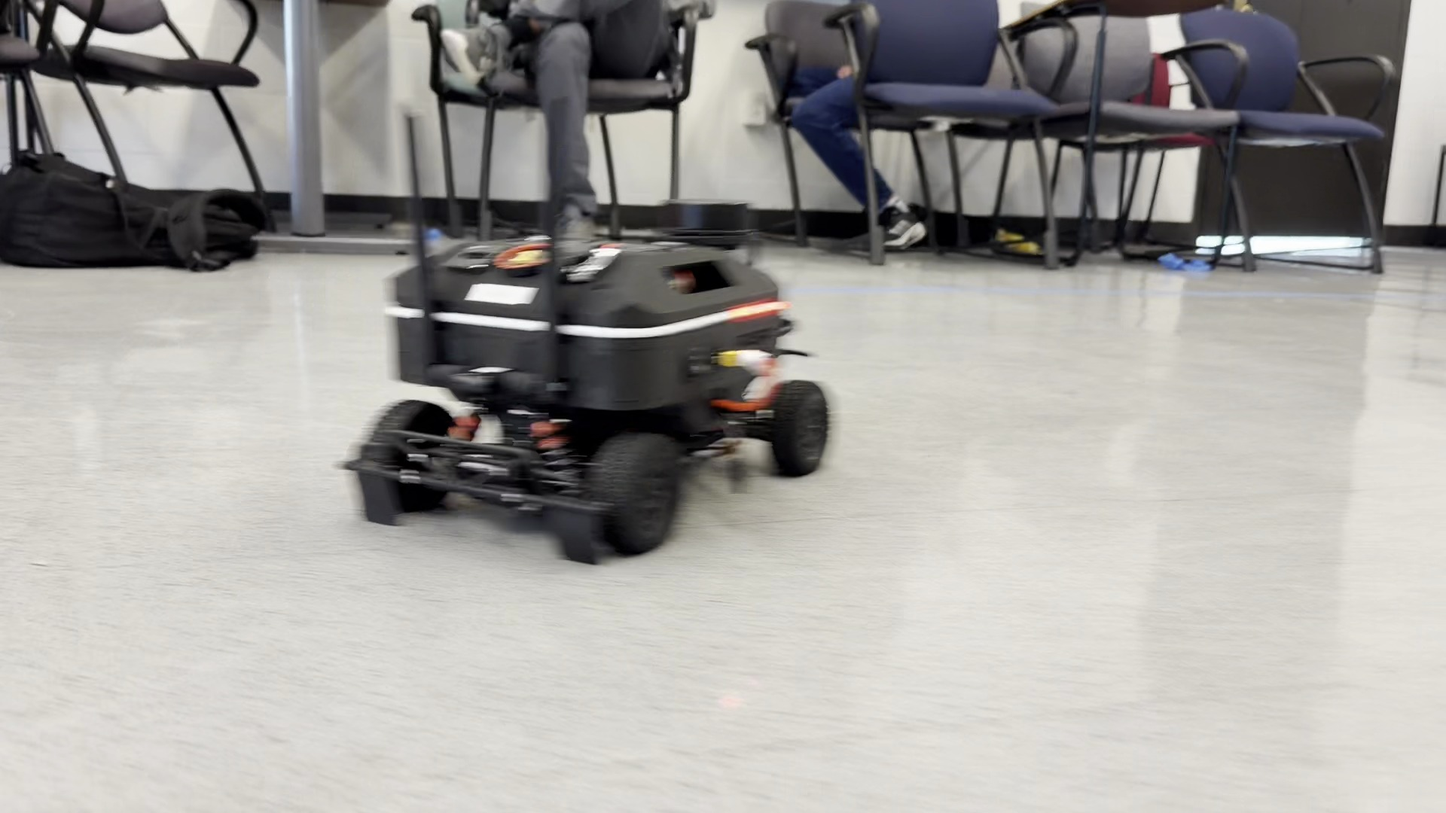racecar: (342, 216, 830, 566)
